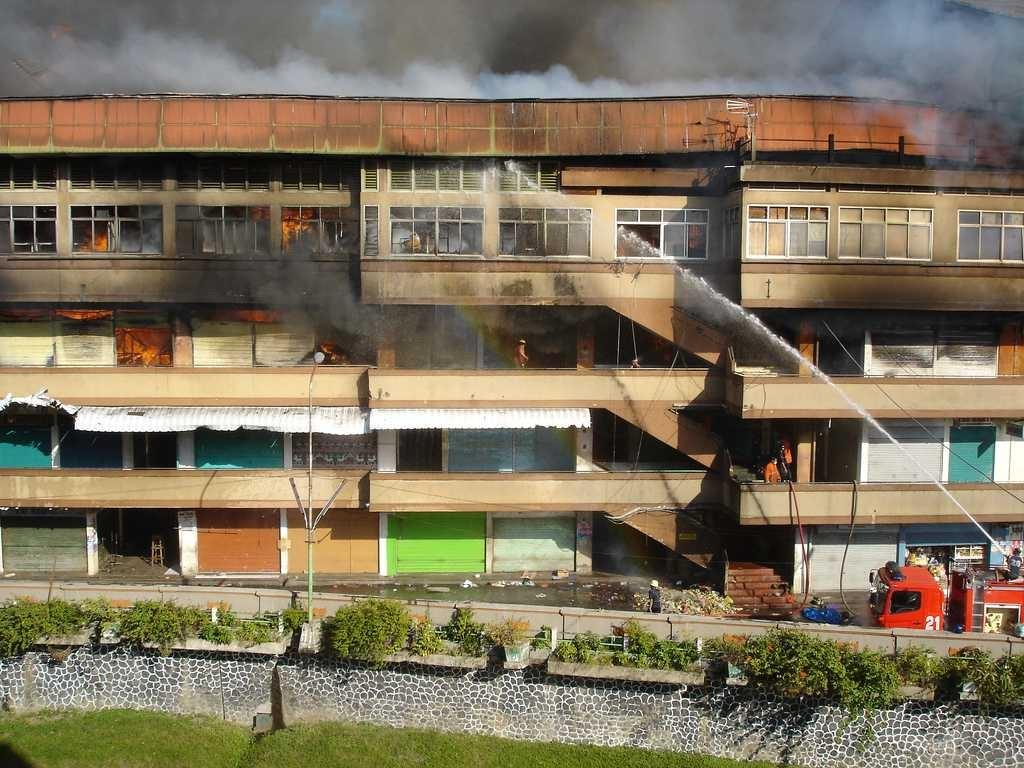fire: (94, 334, 197, 398), (277, 204, 349, 268)
smoke: (34, 7, 1013, 100)
